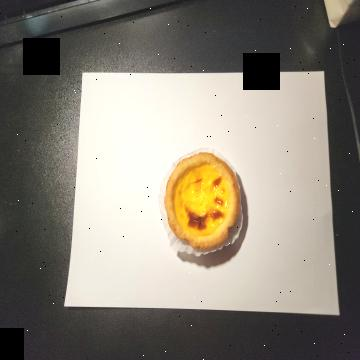EggTart: (164, 151, 240, 251)
